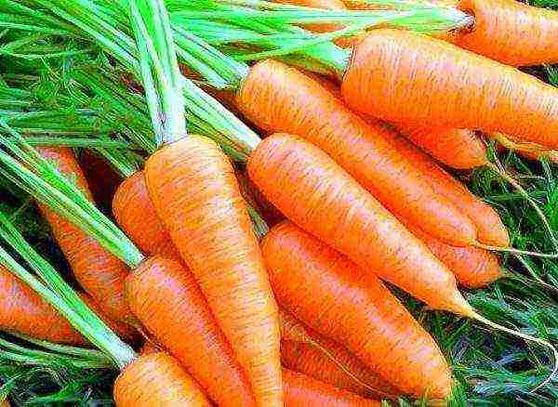carrot: (140, 128, 298, 404)
